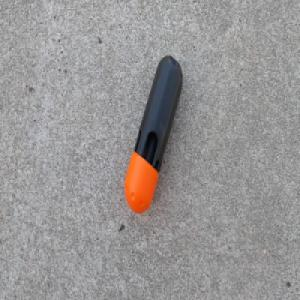PlasticPart: (124, 53, 183, 214)
